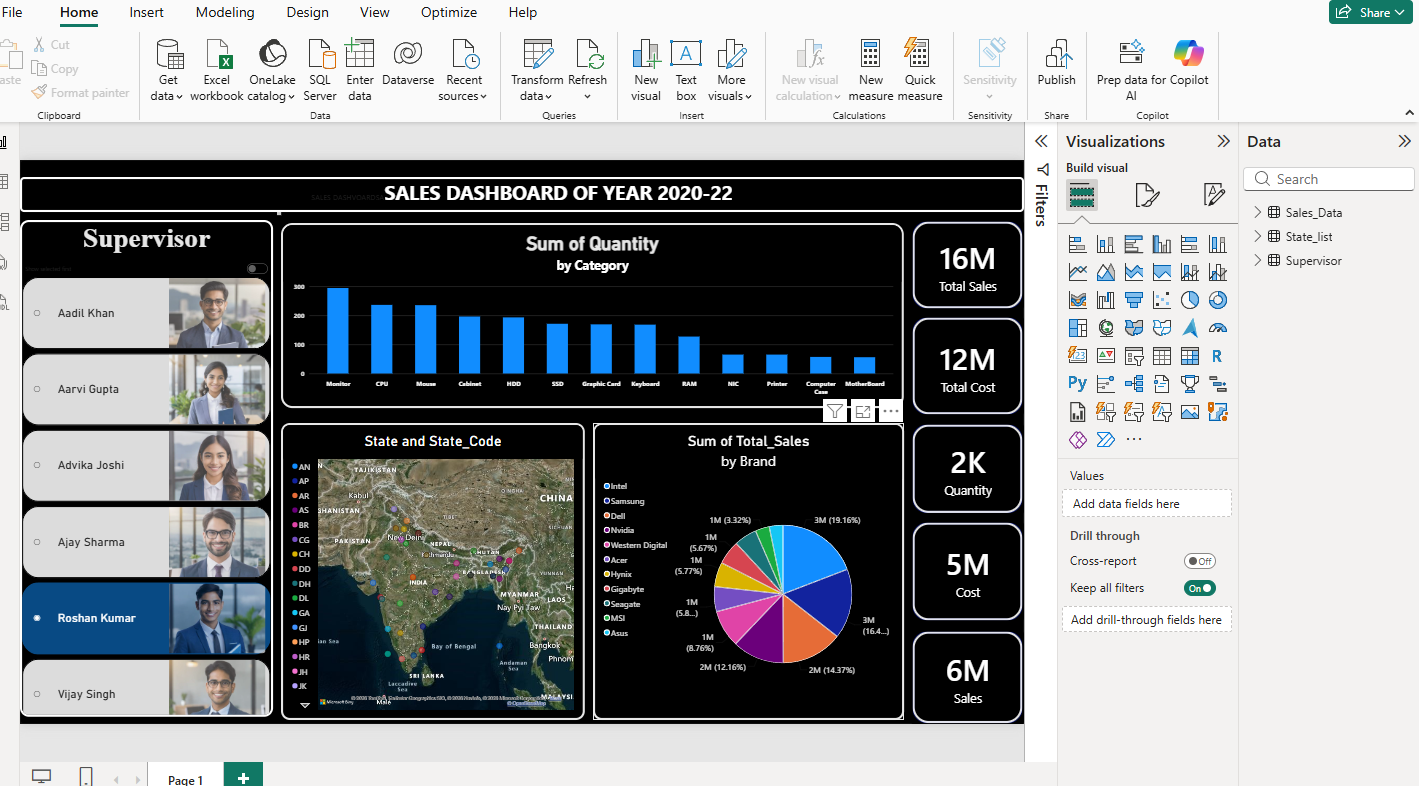

The dashboard page shown, as its layout file describes it:
{"tool":"powerbi","page":{"name":"Page 1","canvas":[1920,1080],"ordinal":0},"visuals":[{"type":"advancedSlicerVisual","fields":{"Values":["Supervisor.Supervisor"]},"box":[0,114.7,483.8,950.4],"z":0},{"type":"cardVisual","fields":{"Data":["Sum(Sales_Data.Total_Cost)"]},"box":[1703.9,298.3,216.1,191.2],"z":1000},{"type":"cardVisual","fields":{"Data":["Sum(Sales_Data.Quantity)"]},"box":[1703.9,502.9,216.1,175.9],"z":2000},{"type":"cardVisual","fields":{"Data":["Sum(Sales_Data.Cost)"]},"box":[1703.9,690.4,216.1,193.1],"z":3000},{"type":"cardVisual","fields":{"Data":["Sum(Sales_Data.Sales)"]},"box":[1703.9,898.8,216.1,181.7],"z":4000},{"type":"cardVisual","fields":{"Data":["Sum(Sales_Data.Total_Sales)"]},"box":[1703.9,114.7,216.1,172.1],"z":5000},{"type":"lineClusteredColumnComboChart","fields":{"Category":["Sales_Data.Category"],"Y":["Sum(Sales_Data.Quantity)"]},"box":[499.1,120.5,1191.4,353.8],"z":5001},{"type":"pieChart","fields":{"Category":["Sales_Data.Brand"],"Y":["Sum(Sales_Data.Total_Sales)"]},"box":[1095.8,502.9,594.7,568],"z":5002},{"type":"map","fields":{"Category":["State_list.State"],"Series":["State_list.State_Code"]},"box":[499.1,502.9,581.4,568],"z":5003},{"type":"textbox","box":[99.4,99.4,399.7,5.7],"z":5005},{"type":"textbox","box":[0,32.5,1920,66.9],"z":5006}]}

Visuals, with their boxes on the page's 1920x1080 design canvas (x1, y1, x2, y2). These are canvas units, not pixel positions in the 1419x786 screenshot, which may show the page scaled, cropped or inside an application window:
advancedSlicerVisual - Supervisor.Supervisor: (x1=0, y1=115, x2=484, y2=1065)
cardVisual - Sum(Sales_Data.Total_Cost): (x1=1704, y1=298, x2=1920, y2=490)
cardVisual - Sum(Sales_Data.Quantity): (x1=1704, y1=503, x2=1920, y2=679)
cardVisual - Sum(Sales_Data.Cost): (x1=1704, y1=690, x2=1920, y2=884)
cardVisual - Sum(Sales_Data.Sales): (x1=1704, y1=899, x2=1920, y2=1080)
cardVisual - Sum(Sales_Data.Total_Sales): (x1=1704, y1=115, x2=1920, y2=287)
lineClusteredColumnComboChart - Sales_Data.Category x Sum(Sales_Data.Quantity): (x1=499, y1=120, x2=1690, y2=474)
pieChart - Sales_Data.Brand x Sum(Sales_Data.Total_Sales): (x1=1096, y1=503, x2=1690, y2=1071)
map - State_list.State x State_list.State_Code: (x1=499, y1=503, x2=1080, y2=1071)
textbox: (x1=99, y1=99, x2=499, y2=105)
textbox: (x1=0, y1=32, x2=1920, y2=99)
